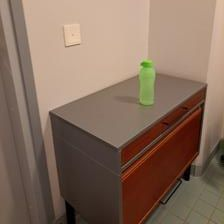bottle: (137, 58, 157, 110)
